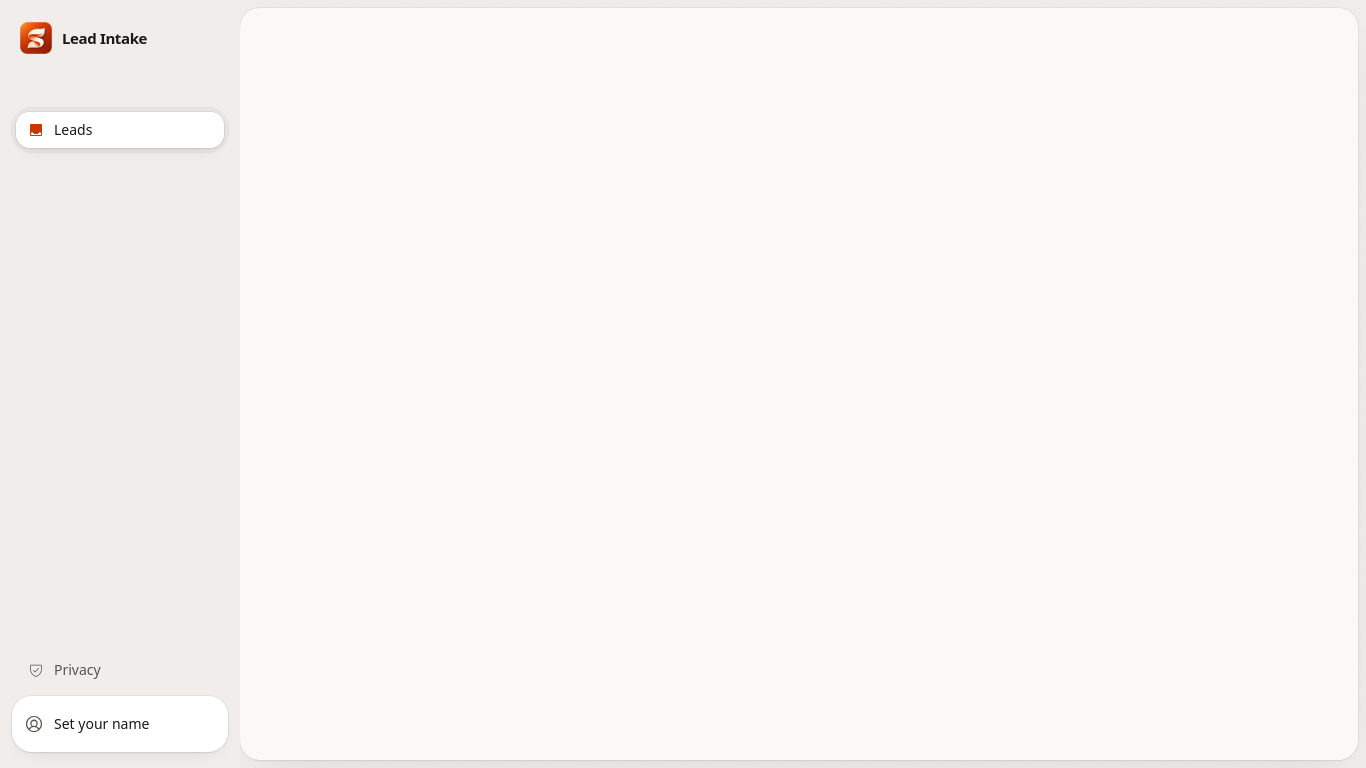
Test case: display name (actor) › asks for a name, remembers it and shows it
Click the button "Set your name".
click(120, 724)  # box [12, 696, 228, 752]
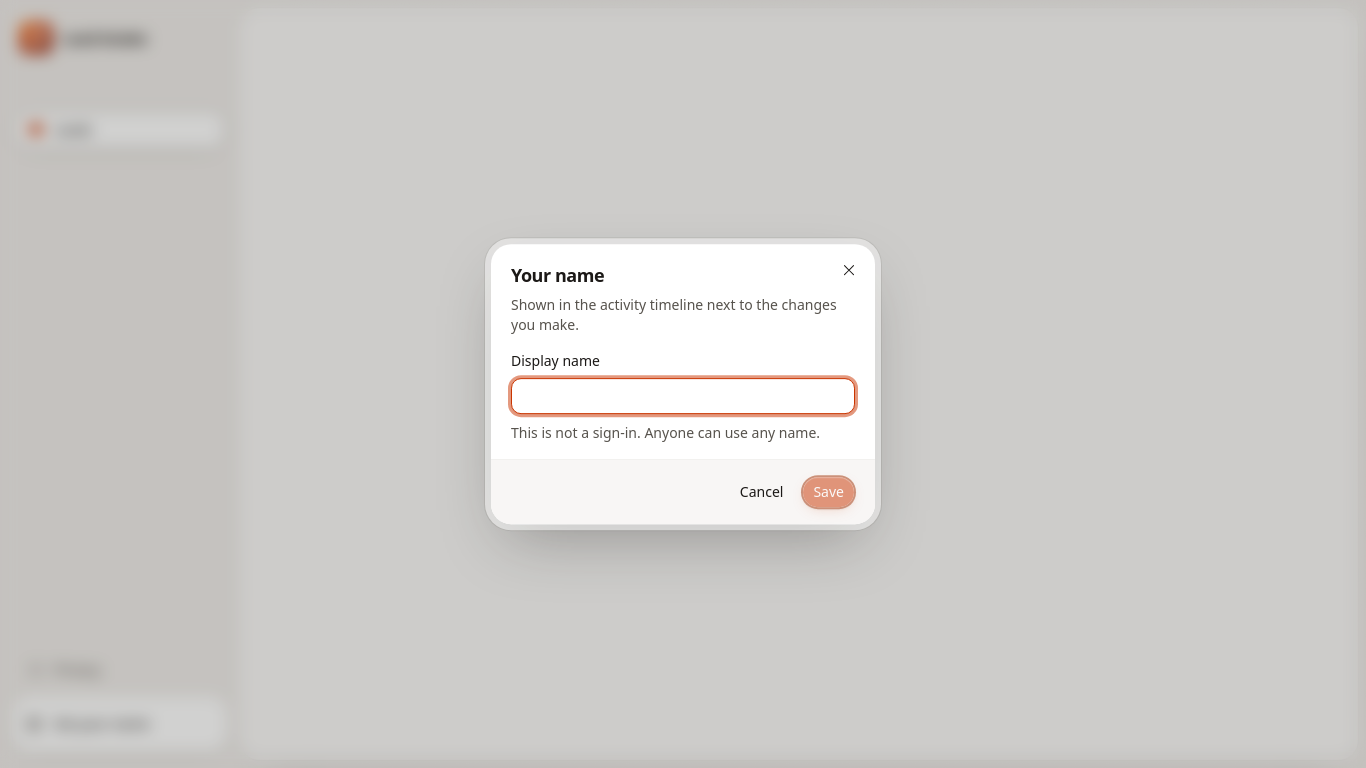
Type "  Sam Lee " into the field labelled "Display name".
click(683, 396); type("  Sam Lee ")  # box [511, 378, 855, 414]
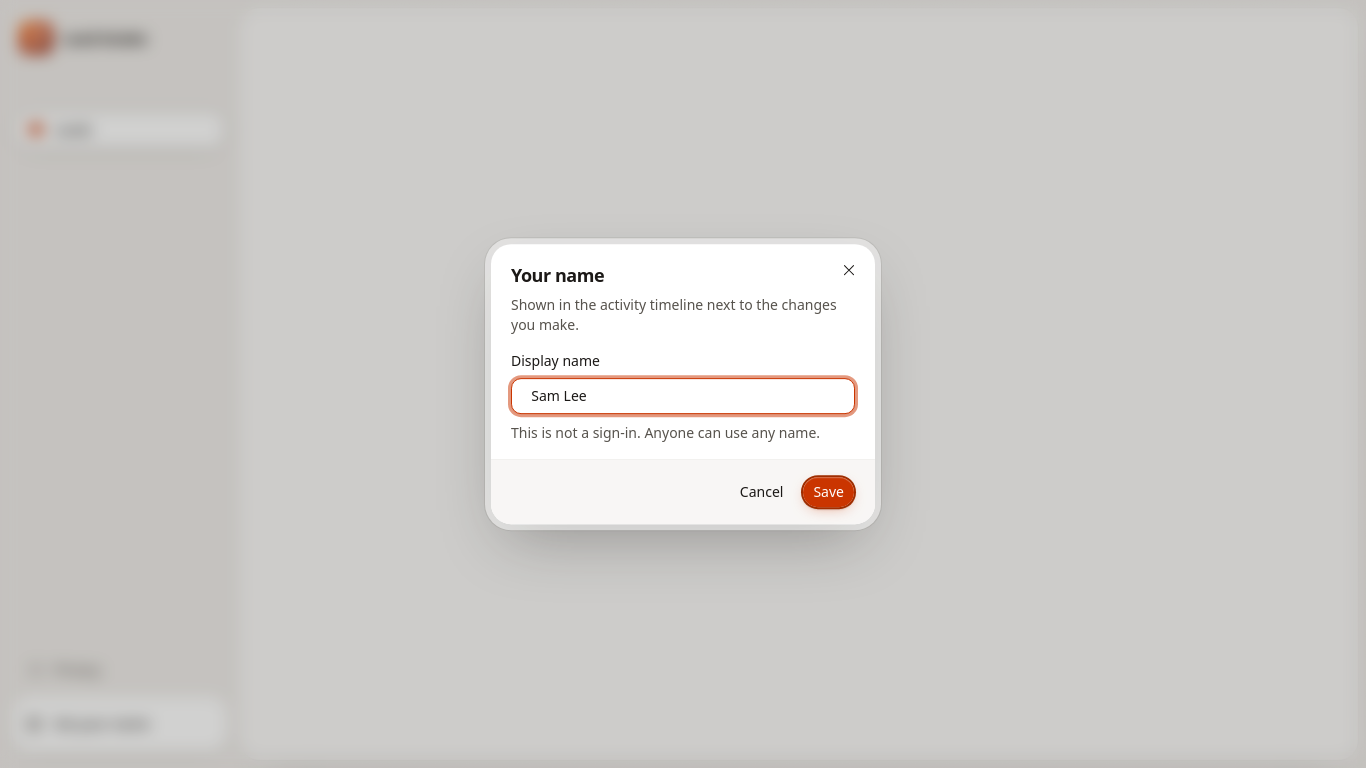
Click the button "Save".
click(829, 492)  # box [802, 476, 855, 508]
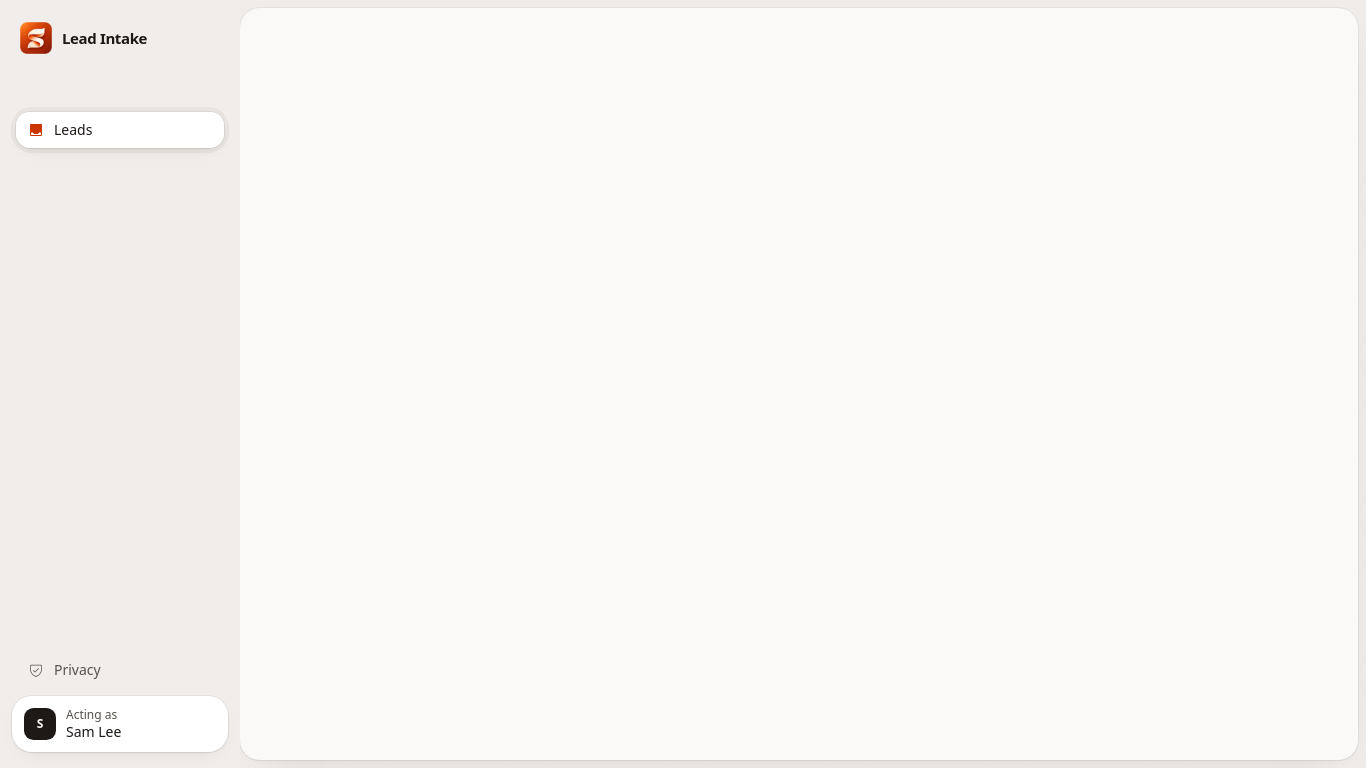
Expected: the button "your name" is gone
Expected: the button "S Acting as Sam Lee" is shown, [12, 696, 228, 752]
Expected: the text "Sam Lee" is shown, [66, 723, 121, 741]
